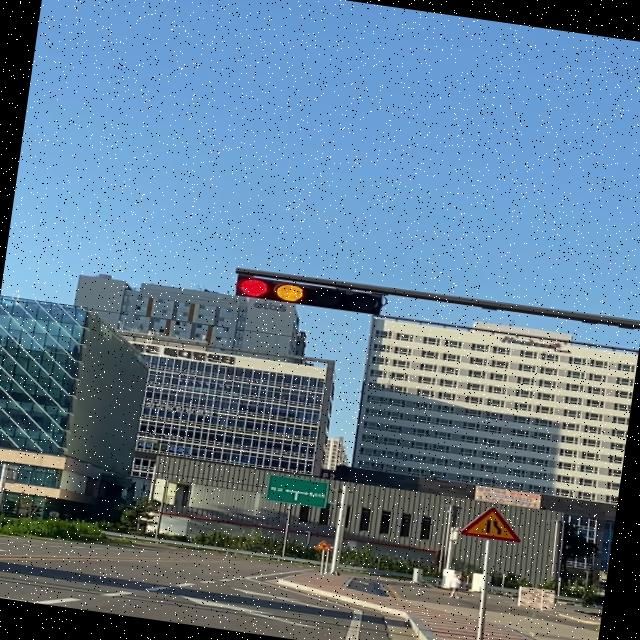yellow_light: (234, 274, 384, 316)
